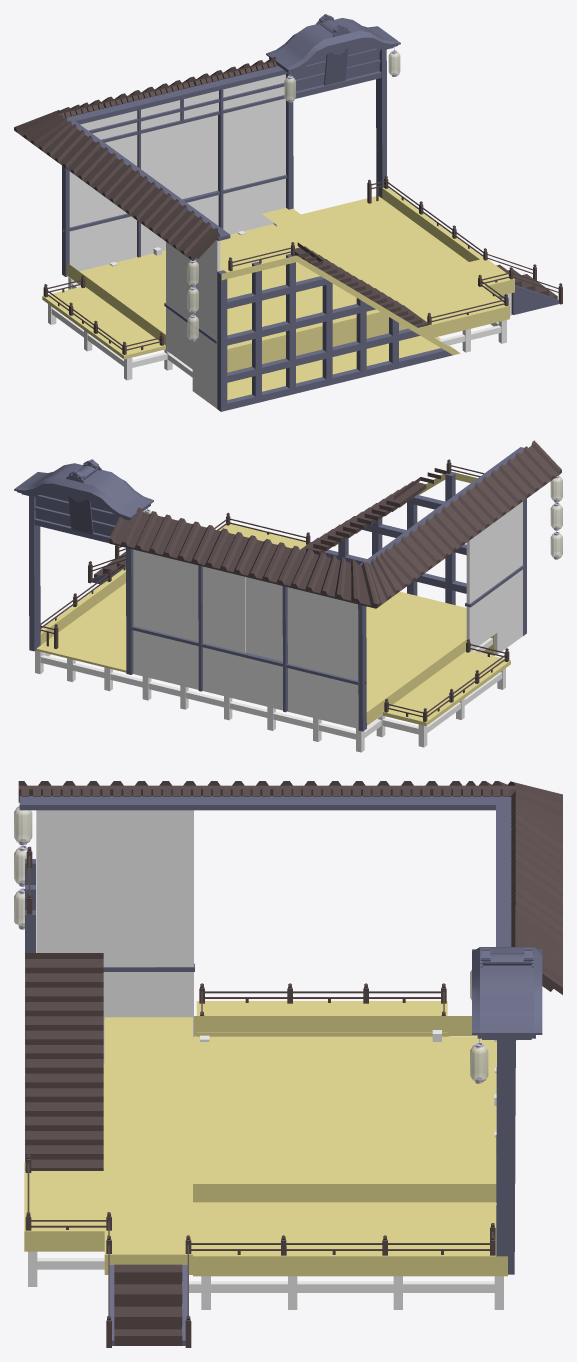
3 views of the same model, one above another, from view 1: azimuth 30°, elevation 25°; view 2: azimuth 150°, elevation 25°; view 3: azimuth 270°, elevation 25° (orthographic). The views are drawn at different scales.
Visible parts, largest first — view 1: Shotengai_Maple_room_RE1; view 2: Shotengai_Maple_room_RE1; view 3: Shotengai_Maple_room_RE1.
Part boxes in pixels (x1,y1,x2,y2): Shotengai_Maple_room_RE1: (14, 14, 562, 411); Shotengai_Maple_room_RE1: (14, 440, 562, 752); Shotengai_Maple_room_RE1: (14, 781, 562, 1347).
Bounding box in the file's own units: 4338 × 2147 × 3284.
